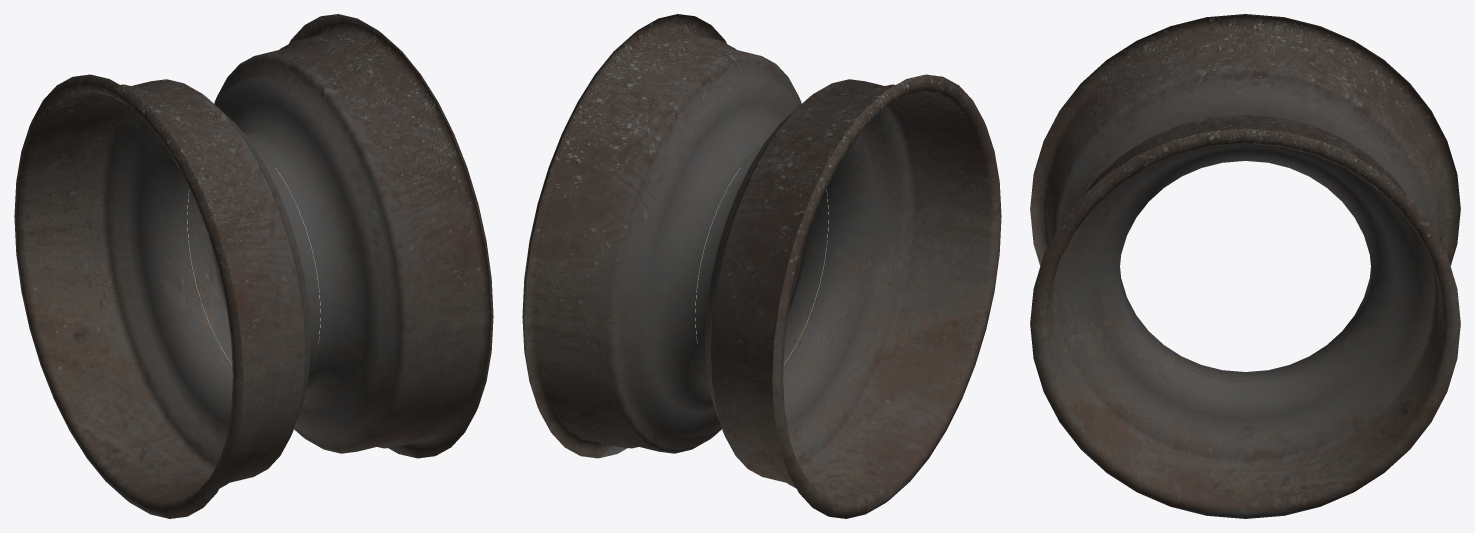
Rendered from FrontRim_Outer.gltf.
3 views of the same model, side by side, from view 1: azimuth 30°, elevation 25°; view 2: azimuth 150°, elevation 25°; view 3: azimuth 270°, elevation 25° (orthographic). The views are drawn at different scales.
Visible parts, largest first — view 1: AM115_026_71; view 2: AM115_026_71; view 3: AM115_026_71.
Boxes of the visible parts, box(x1,y1,x2,y2) form: AM115_026_71: box(14, 14, 493, 518); AM115_026_71: box(522, 14, 1001, 518); AM115_026_71: box(1030, 14, 1460, 518).
Bounding box in the file's own units: 0.5426 × 0.8325 × 0.8325.
Materials: 1 (1 with a texture image).
